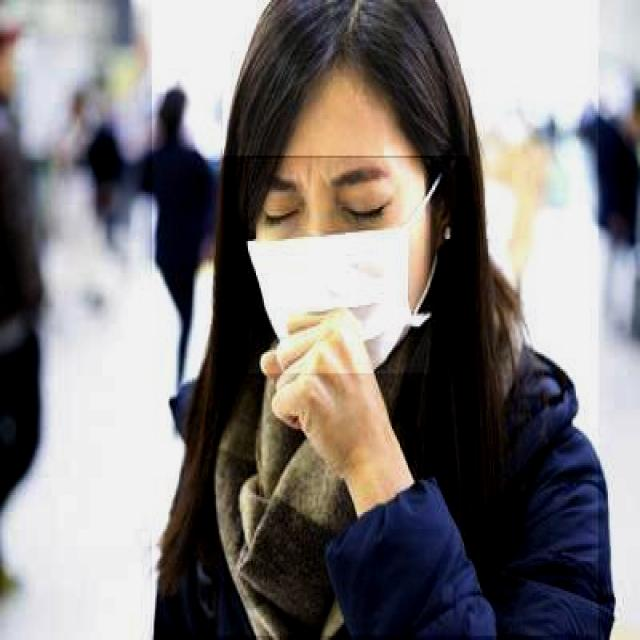face_mask: (248, 158, 430, 373)
hand_noglove: (259, 303, 373, 442)
head_nohelmet: (221, 0, 469, 158)
person: (151, 0, 598, 638)
